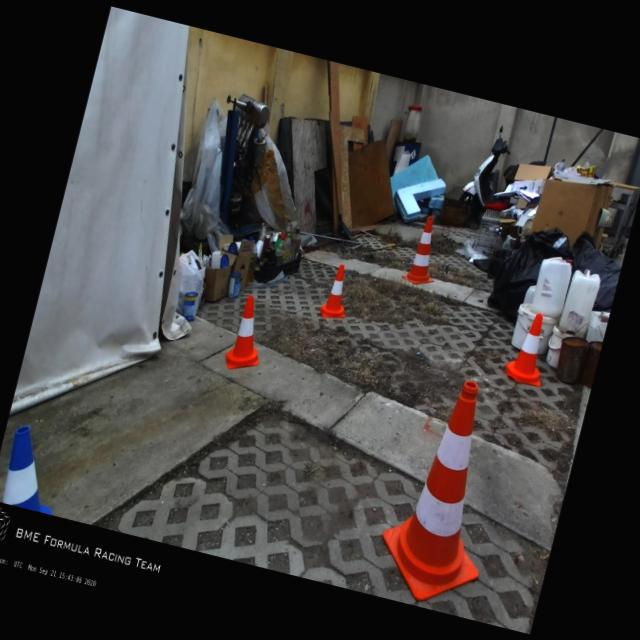blue_cone: (0, 423, 75, 516)
large_orange_cone: (368, 370, 522, 614), (401, 212, 448, 288)
orange_cone: (222, 294, 274, 376), (503, 308, 556, 386), (317, 262, 356, 322)
